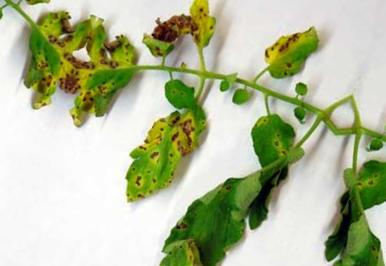Tomato Septoria leaf spot: (102, 85, 213, 224), (53, 18, 143, 144), (254, 5, 342, 96), (231, 108, 314, 188), (113, 224, 271, 266), (170, 0, 232, 53)
